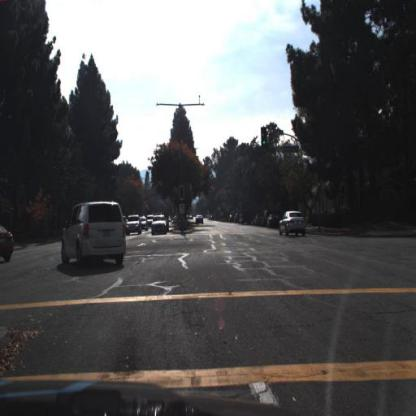car: (54, 198, 127, 268), (278, 208, 309, 241), (150, 214, 170, 237), (124, 212, 142, 235), (194, 212, 206, 228)
trafficLight-Green: (260, 124, 269, 145), (317, 176, 322, 190), (262, 130, 266, 146)
trafficLight-GreenLeft: (178, 187, 184, 205)
